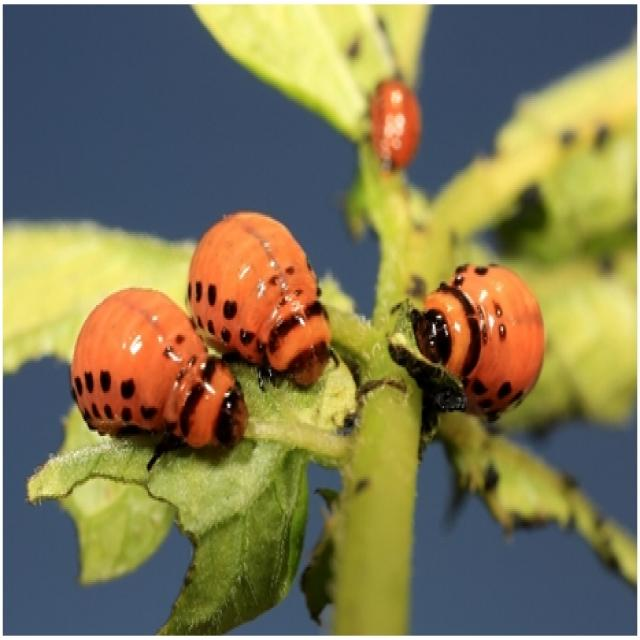ShuCaiHuaBanChong-Larva-: (70, 271, 240, 467), (386, 250, 552, 438), (176, 199, 322, 396)
